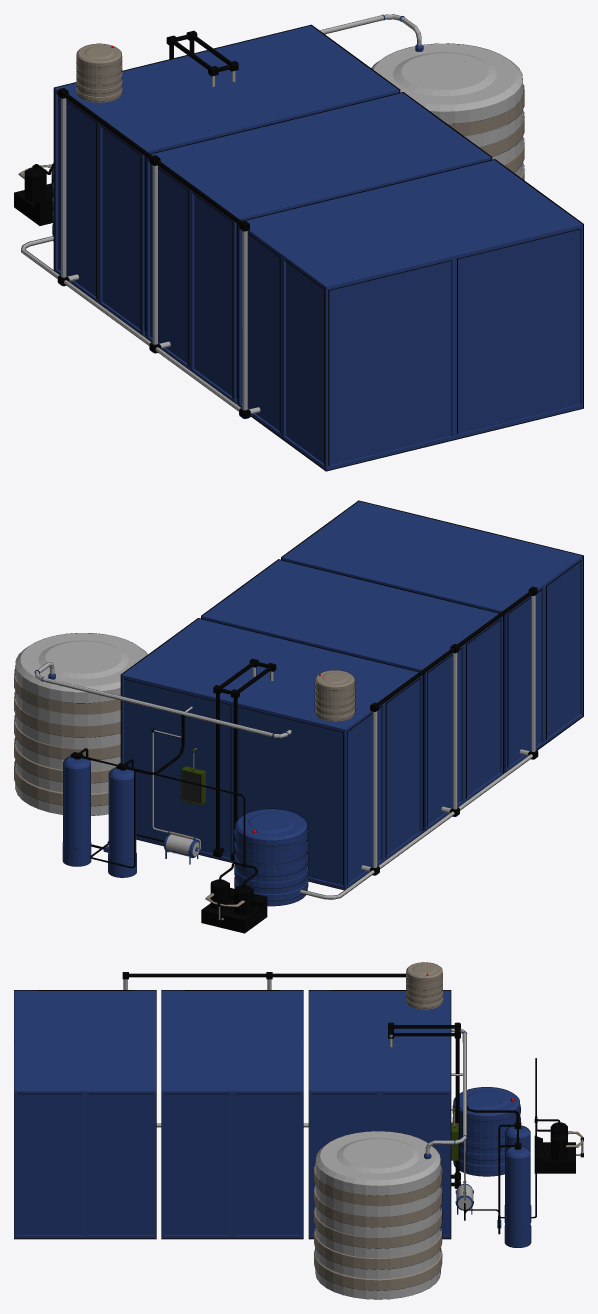
File: water_plant1.fbx
3 views of the same model, one above another, from view 1: azimuth 30°, elevation 25°; view 2: azimuth 150°, elevation 25°; view 3: azimuth 270°, elevation 25° (orthographic). The views are drawn at different scales.
Parts seen in each view (by area): view 1: Container3, Container2, Container1, Tank1, Tank1.001, Tank1.002, Cube.001, Tank1.003; view 2: Container1, Container3, Container2, Tank1, Tank1.001, Cylinder.002, Cube.001, Tank1.003, Tank1.002, Cylinder, Cube; view 3: Container2, Container3, Container1, Tank1, Tank1.001, Cylinder.002, Cube.001, Tank1.002, Tank1.003, Cylinder.
Boxes of the visible parts, bbox=[...] form: Container3: bbox=[237, 159, 583, 471]; Container2: bbox=[145, 92, 492, 403]; Container1: bbox=[53, 24, 400, 336]; Tank1: bbox=[320, 14, 524, 180]; Tank1.001: bbox=[21, 88, 260, 418]; Tank1.002: bbox=[76, 43, 122, 102]; Cube.001: bbox=[14, 164, 53, 225]; Tank1.003: bbox=[166, 30, 238, 86]; Container1: bbox=[120, 618, 423, 890]; Container3: bbox=[281, 500, 583, 772]; Container2: bbox=[201, 559, 503, 831]; Tank1: bbox=[14, 633, 291, 815]; Tank1.001: bbox=[234, 586, 538, 906]; Cylinder.002: bbox=[62, 715, 257, 887]; Cube.001: bbox=[201, 879, 267, 933]; Tank1.003: bbox=[213, 658, 276, 860]; Tank1.002: bbox=[314, 670, 355, 721]; Cylinder: bbox=[151, 728, 200, 864]; Cube: bbox=[181, 748, 205, 805]; Container2: bbox=[161, 990, 303, 1239]; Container3: bbox=[14, 990, 156, 1239]; Container1: bbox=[308, 990, 451, 1239]; Tank1: bbox=[314, 1028, 467, 1299]; Tank1.001: bbox=[122, 972, 520, 1176]; Cylinder.002: bbox=[464, 1058, 560, 1247]; Cube.001: bbox=[534, 1122, 583, 1173]; Tank1.002: bbox=[406, 962, 442, 1009]; Tank1.003: bbox=[388, 1022, 460, 1188]; Cylinder: bbox=[455, 1140, 473, 1214].
Size of the model in its own units: 635 by 321 by 908.
